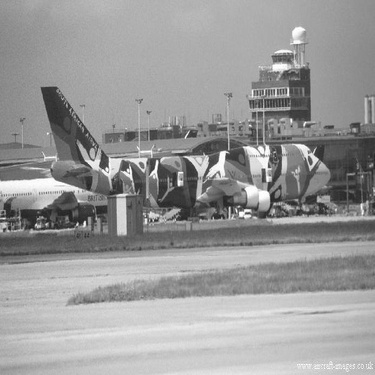airplane: (32, 83, 341, 226), (1, 173, 103, 215)
